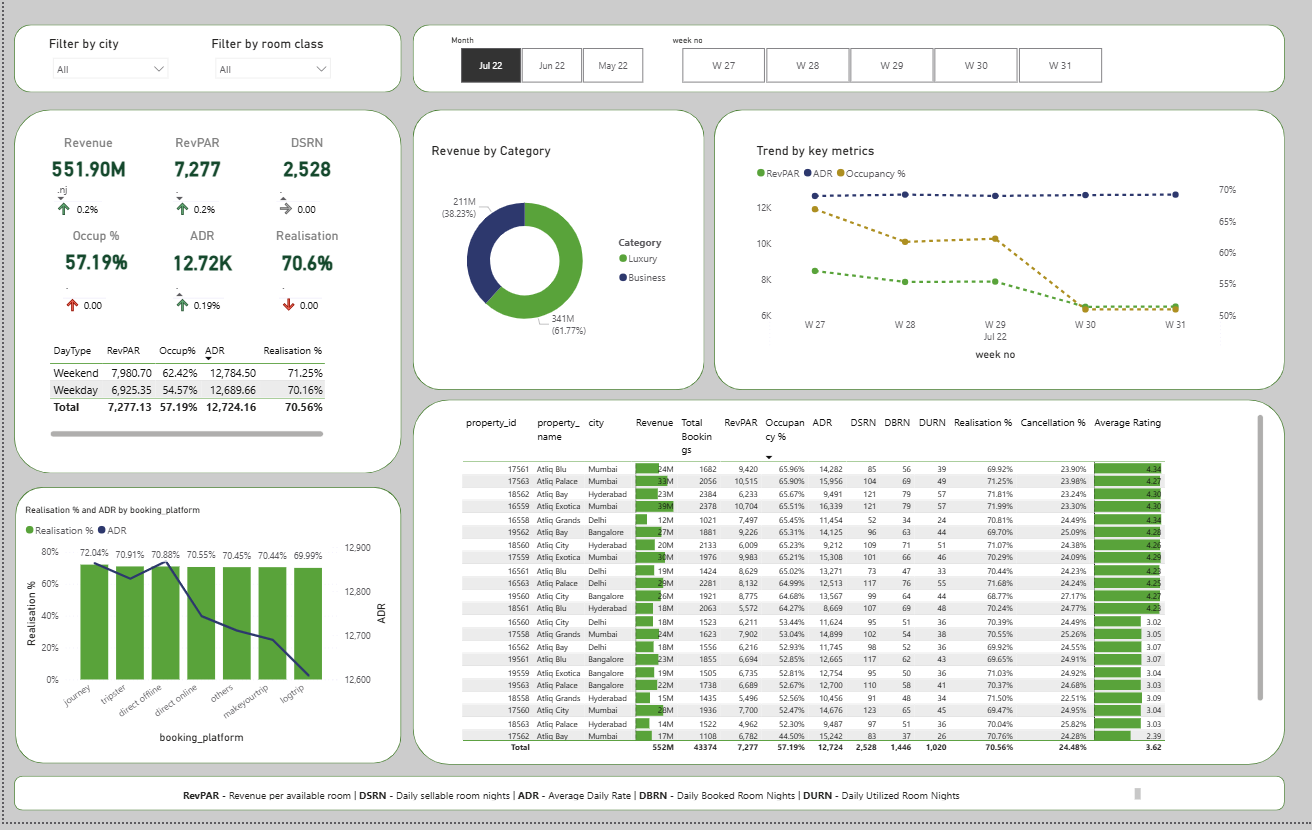

What the dashboard file says about the page in this screenshot:
{"tool":"powerbi","page":{"name":"Hospitality DA","canvas":[1800,1100],"ordinal":0},"visuals":[{"type":"shape","box":[544.4,537,1163,487],"z":0},{"type":"shape","box":[14.8,653.7,514.8,368.5],"z":1000},{"type":"shape","box":[544.4,150,388.9,374.1],"z":2000},{"type":"shape","box":[13,150,516.7,485.2],"z":3000},{"type":"shape","box":[544.4,37,1163,90.7],"z":4000},{"type":"shape","box":[13,37,516.7,90.7],"z":5000},{"type":"tableEx","fields":{"Values":["dim_hotels.property_id","dim_hotels.property_name","dim_hotels.city","key_measures.Revenue","key_measures.Total Bookings","key_measures.RevPAR","key_measures.Occupancy %","key_measures.ADR","key_measures.DSRN","key_measures.DBRN","key_measures.DURN","key_measures.Realisation %"]},"box":[605.6,551.9,1079.6,461.1],"z":6000},{"type":"slicer","fields":{"Values":["dim_date.mmm yy"]},"box":[583.3,46.3,292.6,74.1],"z":7000},{"type":"slicer","fields":{"Values":["dim_date.week no"]},"box":[877.8,46.3,609.3,74.1],"z":8000},{"type":"card","title":"Revenue","fields":{"Values":["key_measures.Revenue"]},"box":[44.4,182.6,135.2,70.4],"z":9000},{"type":"donutChart","fields":{"Category":["dim_hotels.category"],"Y":["key_measures.Revenue"]},"box":[564.8,194.4,335.2,294.4],"z":10000},{"type":"tableEx","fields":{"Values":["key_measures.Revenue WoW change %"]},"box":[59.4,242.2,84.9,55.8],"z":11000},{"type":"card","title":"Occup %","fields":{"Values":["key_measures.Occupancy %"]},"box":[44.3,308.4,155.8,69.8],"z":12000},{"type":"card","title":"RevPAR","fields":{"Values":["key_measures.RevPAR"]},"box":[179.2,182.9,155.8,69.8],"z":13000},{"type":"card","title":"ADR","fields":{"Values":["key_measures.ADR"]},"box":[179.6,308.5,168.5,70.4],"z":14000},{"type":"card","title":"DSRN","fields":{"Values":["key_measures.DSRN"]},"box":[335,182.9,138.4,69.8],"z":15000},{"type":"card","title":"Realisation","fields":{"Values":["key_measures.Realisation %"]},"box":[335.2,308.5,138.9,70.4],"z":16000},{"type":"tableEx","fields":{"Values":["dim_date.day type","key_measures.RevPAR","key_measures.Occupancy %","key_measures.ADR","key_measures.Realisation %"]},"box":[55.6,455.6,377.8,137],"z":17000},{"type":"lineStackedColumnComboChart","fields":{"Category":["fact_bookings.booking_platform"],"Y":["key_measures.Realisation %"],"Y2":["key_measures.ADR"]},"box":[24.1,675.9,492.6,324.1],"z":18000},{"type":"tableEx","fields":{"Values":["key_measures.Occupancy WoW change %"]},"box":[71.6,370.7,86.4,65.9],"z":19000},{"type":"tableEx","fields":{"Values":["key_measures.ADR WoW change %"]},"box":[218.4,370.7,86.4,67.2],"z":20000},{"type":"tableEx","fields":{"Values":["key_measures.Realisation WoW change %"]},"box":[360.6,370.1,87.2,66.3],"z":21000},{"type":"tableEx","fields":{"Values":["key_measures.Revenue WoW change %"]},"box":[217.6,242.2,87.2,66.3],"z":22000},{"type":"tableEx","fields":{"Values":["key_measures.DSRN WoW change %"]},"box":[355.9,242.2,95.3,66.3],"z":23000},{"type":"shape","box":[946.3,150,761.1,374.1],"z":24000},{"type":"lineChart","title":"Trend by key metrics","fields":{"Category":["dim_date.mmm yy.Variation.Date Hierarchy.Month","dim_date.week no"],"Y":["key_measures.RevPAR","key_measures.ADR"],"Y2":["key_measures.Occupancy %"]},"box":[998.1,194.4,650,294.4],"z":25000},{"type":"slicer","title":"Filter by city","fields":{"Values":["dim_hotels.city"]},"box":[54.8,51.5,174.1,64.8],"z":26000},{"type":"slicer","title":"Filter by room class","fields":{"Values":["dim_rooms.room_class"]},"box":[271.5,51.5,174.1,64.8],"z":27000},{"type":"shape","box":[13,1038.9,1694.4,46.3],"z":28000},{"type":"textbox","box":[229.6,1050,1290.7,25.9],"z":29000}]}

Visuals, with their boxes on the page's 1800x1100 design canvas (x1, y1, x2, y2). These are canvas units, not pixel positions in the 1312x830 screenshot, which may show the page scaled, cropped or inside an application window:
shape: select_region(544, 537, 1707, 1024)
shape: select_region(15, 654, 530, 1022)
shape: select_region(544, 150, 933, 524)
shape: select_region(13, 150, 530, 635)
shape: select_region(544, 37, 1707, 128)
shape: select_region(13, 37, 530, 128)
tableEx - dim_hotels.property_id x dim_hotels.property_name: select_region(606, 552, 1685, 1013)
slicer - dim_date.mmm yy: select_region(583, 46, 876, 120)
slicer - dim_date.week no: select_region(878, 46, 1487, 120)
"Revenue" card: select_region(44, 183, 180, 253)
donutChart - dim_hotels.category x key_measures.Revenue: select_region(565, 194, 900, 489)
tableEx - key_measures.Revenue WoW change %: select_region(59, 242, 144, 298)
"Occup %" card: select_region(44, 308, 200, 378)
"RevPAR" card: select_region(179, 183, 335, 253)
"ADR" card: select_region(180, 308, 348, 379)
"DSRN" card: select_region(335, 183, 473, 253)
"Realisation" card: select_region(335, 308, 474, 379)
tableEx - dim_date.day type x key_measures.RevPAR: select_region(56, 456, 433, 593)
lineStackedColumnComboChart - fact_bookings.booking_platform x key_measures.Realisation %: select_region(24, 676, 517, 1000)
tableEx - key_measures.Occupancy WoW change %: select_region(72, 371, 158, 437)
tableEx - key_measures.ADR WoW change %: select_region(218, 371, 305, 438)
tableEx - key_measures.Realisation WoW change %: select_region(361, 370, 448, 436)
tableEx - key_measures.Revenue WoW change %: select_region(218, 242, 305, 308)
tableEx - key_measures.DSRN WoW change %: select_region(356, 242, 451, 308)
shape: select_region(946, 150, 1707, 524)
"Trend by key metrics" lineChart: select_region(998, 194, 1648, 489)
"Filter by city" slicer: select_region(55, 52, 229, 116)
"Filter by room class" slicer: select_region(272, 52, 446, 116)
shape: select_region(13, 1039, 1707, 1085)
textbox: select_region(230, 1050, 1520, 1076)
